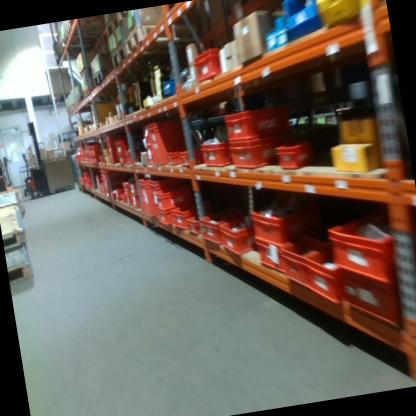pallet: (122, 13, 203, 56), (1, 224, 31, 255), (6, 260, 33, 291), (90, 66, 116, 91), (109, 42, 129, 70), (103, 14, 121, 36), (63, 21, 77, 41), (118, 9, 140, 21), (80, 84, 93, 103), (60, 31, 70, 51), (79, 66, 92, 79)
pallet_truck: (15, 115, 48, 202), (16, 150, 33, 196), (0, 149, 17, 195)
small_load_carrier: (326, 214, 402, 294), (335, 260, 404, 338), (249, 197, 312, 249), (147, 113, 201, 171), (303, 239, 345, 310), (277, 231, 322, 293), (223, 106, 283, 144), (229, 135, 280, 172), (273, 132, 314, 177), (148, 172, 187, 219), (220, 216, 259, 259), (253, 236, 289, 281), (151, 182, 192, 213), (199, 136, 232, 170), (192, 47, 222, 81), (198, 212, 227, 247), (136, 175, 157, 218), (169, 200, 194, 230), (185, 210, 207, 235), (155, 205, 178, 228), (104, 135, 121, 165), (177, 143, 195, 170), (165, 148, 183, 167), (122, 146, 140, 162), (145, 147, 157, 166), (140, 122, 153, 136), (142, 134, 154, 148), (114, 135, 124, 151), (130, 194, 141, 208), (116, 151, 127, 164), (114, 186, 123, 200), (129, 181, 139, 193), (122, 194, 130, 208), (121, 181, 129, 194), (126, 194, 131, 206)
